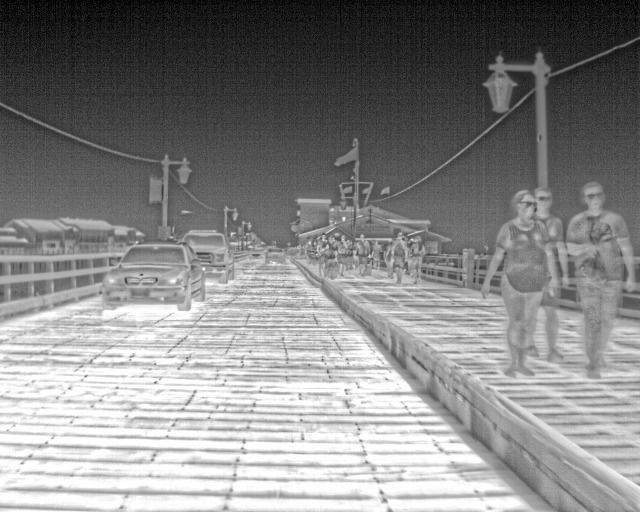bicycle: (98, 239, 205, 308), (179, 227, 234, 283), (262, 243, 286, 263), (249, 243, 266, 258)
empty: (562, 180, 633, 376), (484, 187, 548, 375), (530, 187, 570, 365), (319, 234, 340, 281), (409, 236, 429, 285), (392, 230, 411, 278), (354, 232, 373, 277), (337, 233, 353, 277), (370, 238, 383, 271), (314, 233, 328, 254)
